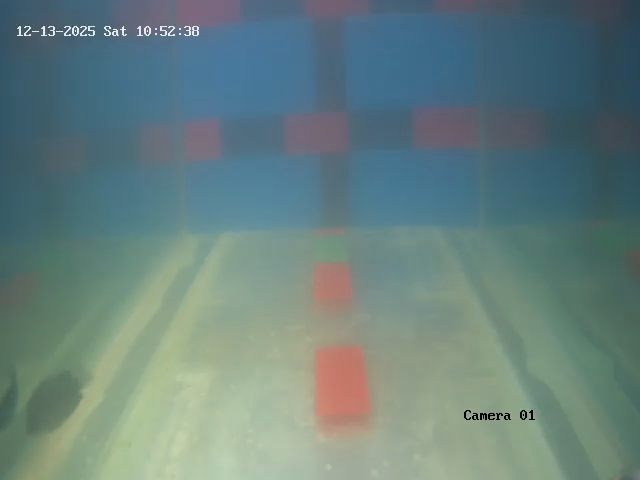fish: (22, 364, 96, 447)
